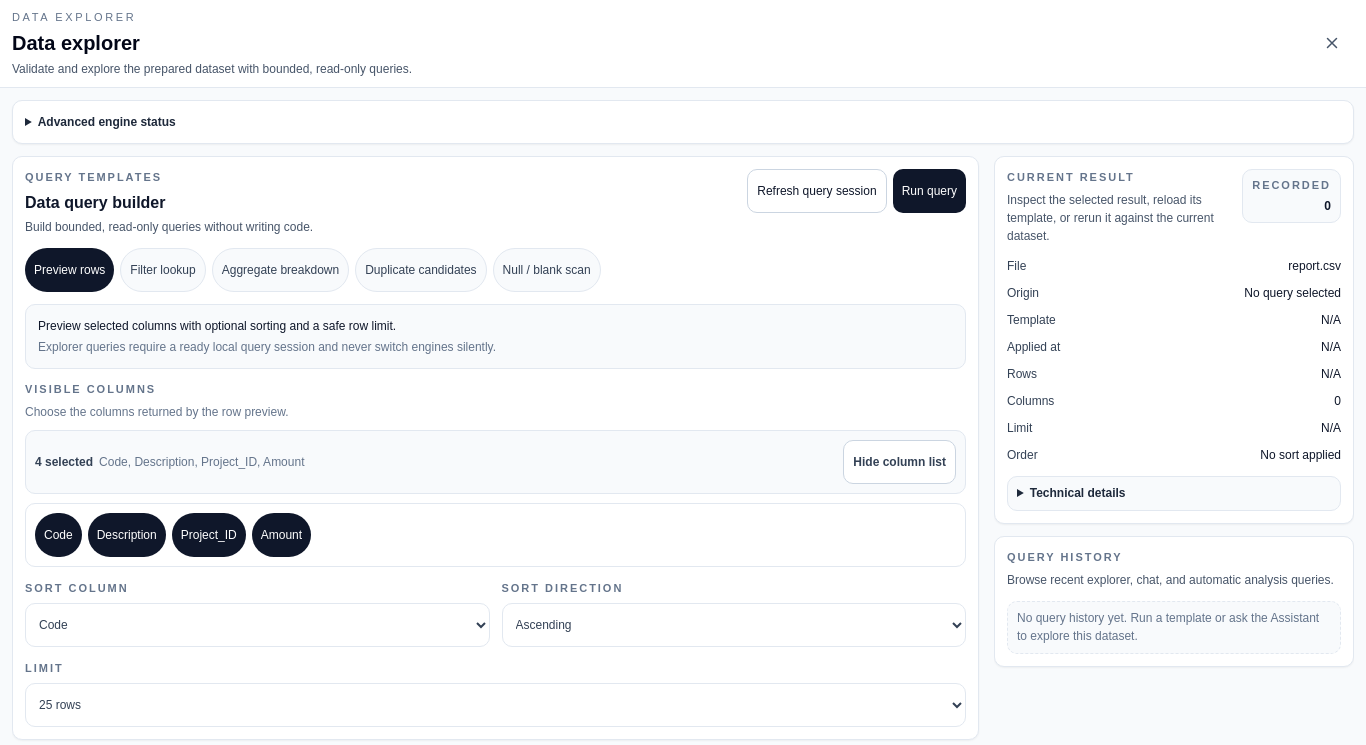
it: DatabaseModal › clears the previous success banner when the user switches query templates
This screenshot has width=1366, height=745.
Click the button "Run query". click: (929, 190)
box: [893,168,966,212]
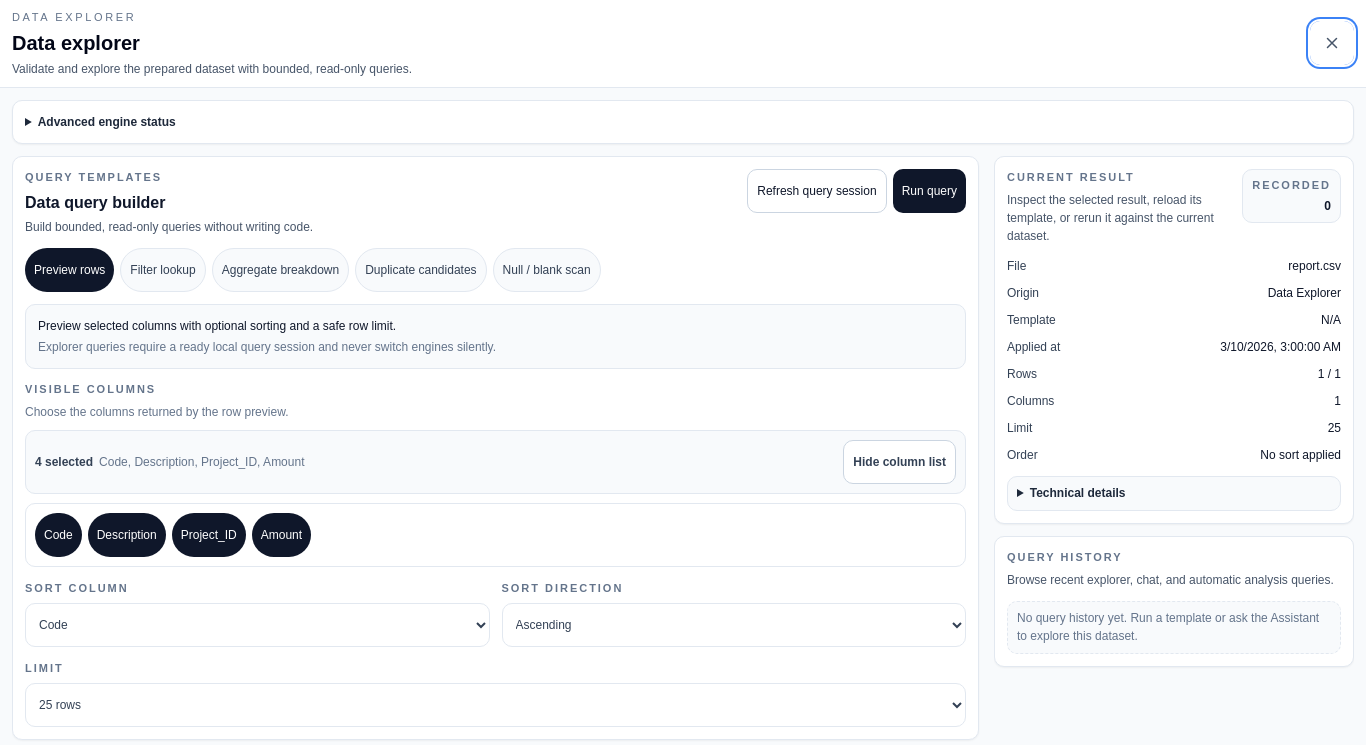
Click the button "Null / blank scan". click: (547, 270)
box: [493,248,601,292]
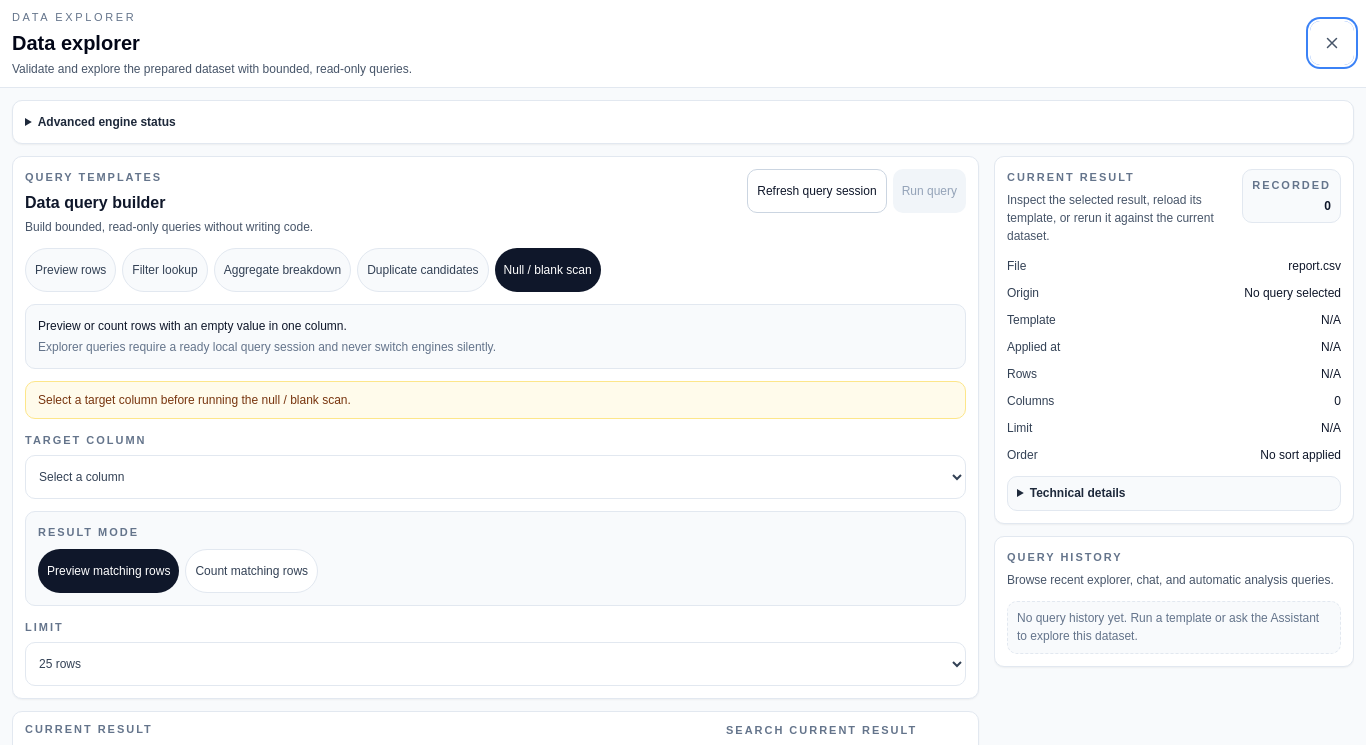
Check: the button "Run query" is disabled, box [893,168,966,212]
Check: the message shows "Select a target column", box [38,392,351,406]
